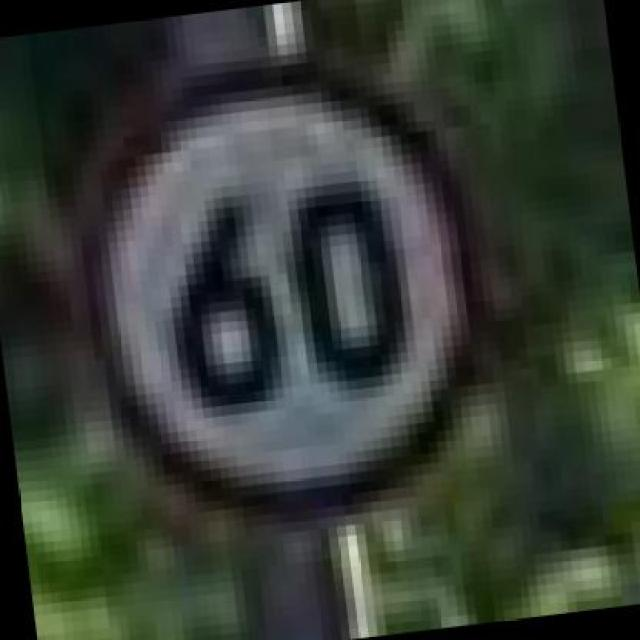Limite-60: (77, 54, 496, 533)
